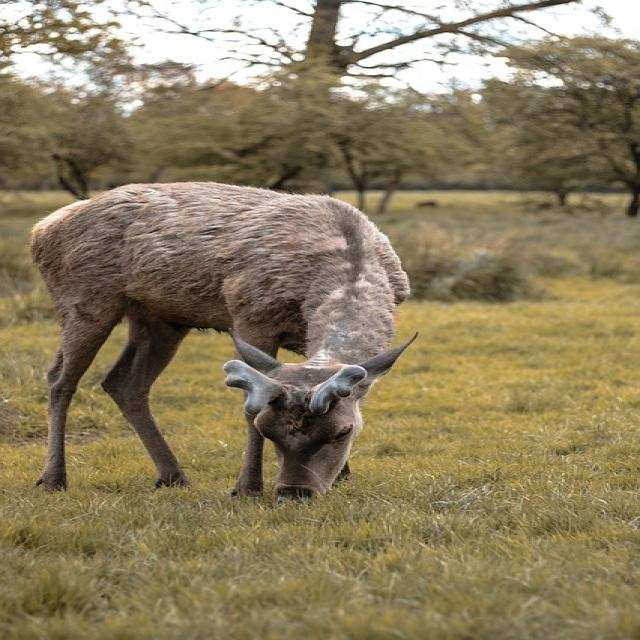sheep: (27, 180, 418, 505)
